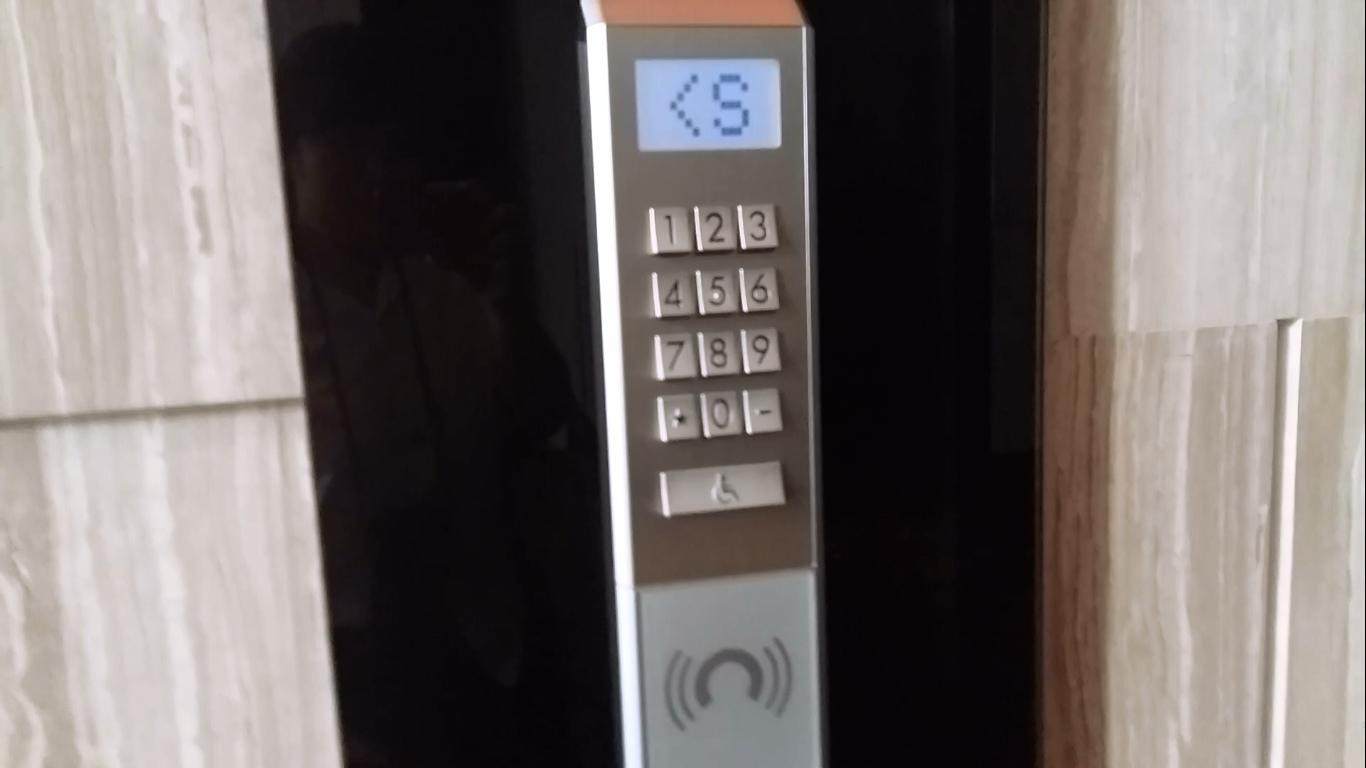-: (742, 385, 787, 437)
0: (701, 388, 746, 440)
1: (645, 204, 695, 256)
2: (692, 202, 740, 254)
3: (736, 201, 782, 251)
4: (648, 269, 696, 320)
5: (694, 267, 742, 318)
6: (738, 264, 782, 315)
7: (651, 330, 699, 381)
8: (696, 327, 744, 378)
9: (739, 324, 784, 376)
CH: (658, 461, 789, 515)
led: (630, 54, 787, 154)
s: (655, 391, 700, 443)
